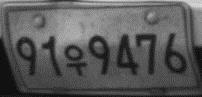1: (40, 35, 63, 77)
4: (115, 32, 140, 76)
6: (163, 32, 188, 76)
7: (134, 31, 158, 77)
9: (86, 34, 112, 77), (14, 35, 37, 78)
우: (64, 43, 87, 77)
